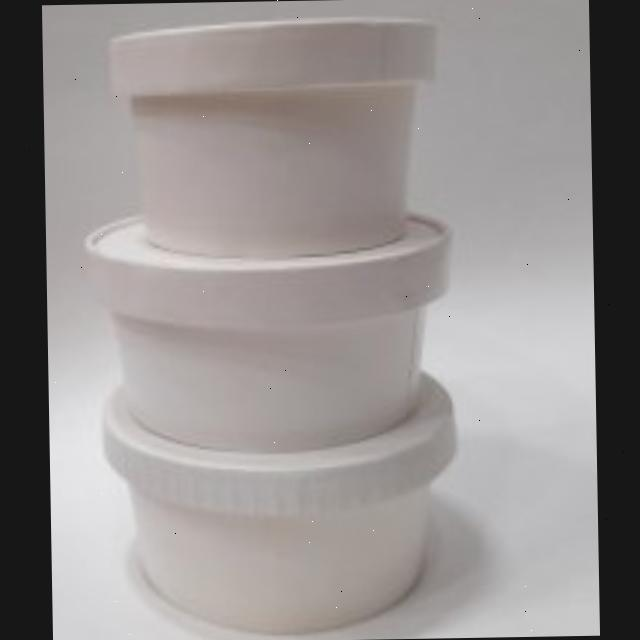trash: (110, 18, 436, 260)
